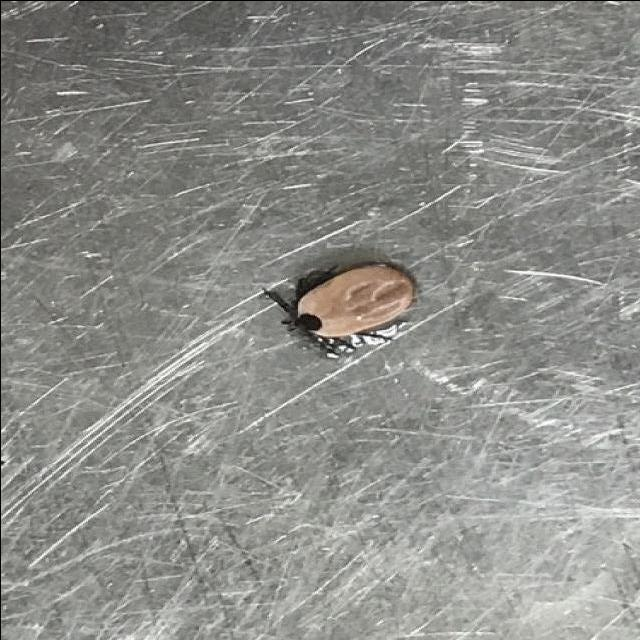Ixodes Ricinus-F-Fed: (265, 257, 416, 357)
